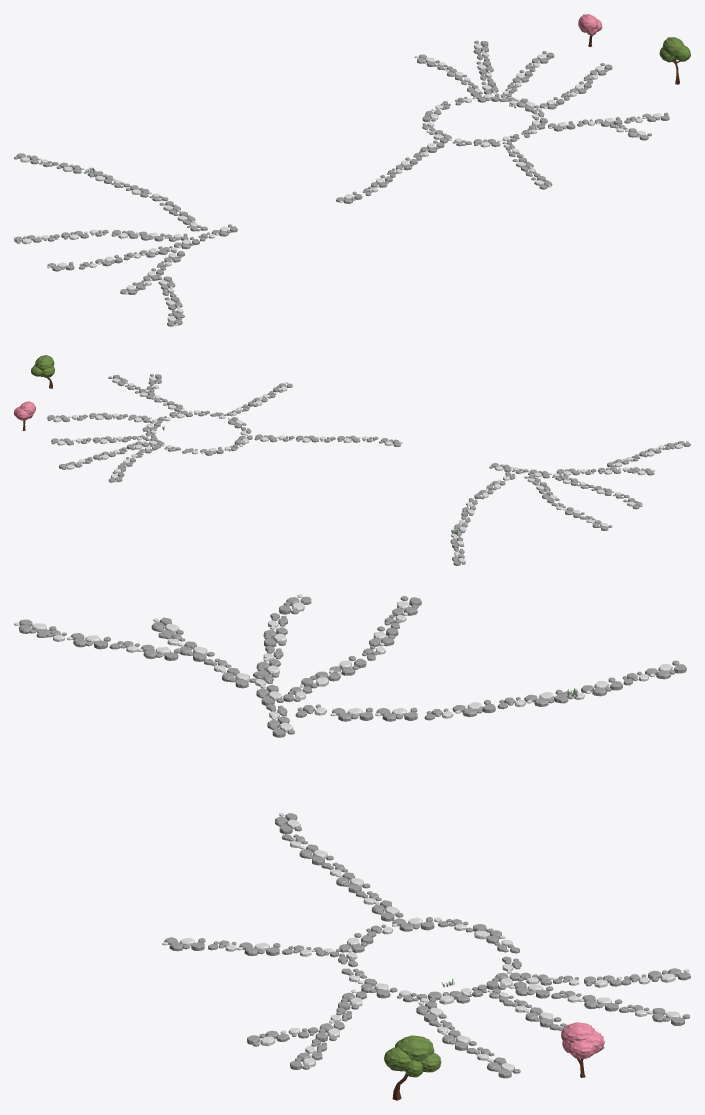
File: Rock.fbx
3 views of the same model, one above another, from view 1: azimuth 30°, elevation 25°; view 2: azimuth 150°, elevation 25°; view 3: azimuth 270°, elevation 25° (orthographic). The views are drawn at different scales.
Parts seen in each view (by area): view 1: Sphere.033; view 2: Sphere.033, Plane.012; view 3: Sphere.033, Plane.012.
Part boxes in pixels (bbox=[...]): Sphere.033: bbox=[659, 37, 690, 84]; Sphere.033: bbox=[31, 355, 54, 388]; Plane.012: bbox=[14, 401, 35, 430]; Sphere.033: bbox=[384, 1035, 441, 1100]; Plane.012: bbox=[561, 1022, 604, 1077].
Size of the model in its own units: 10329 by 631 by 5732.
